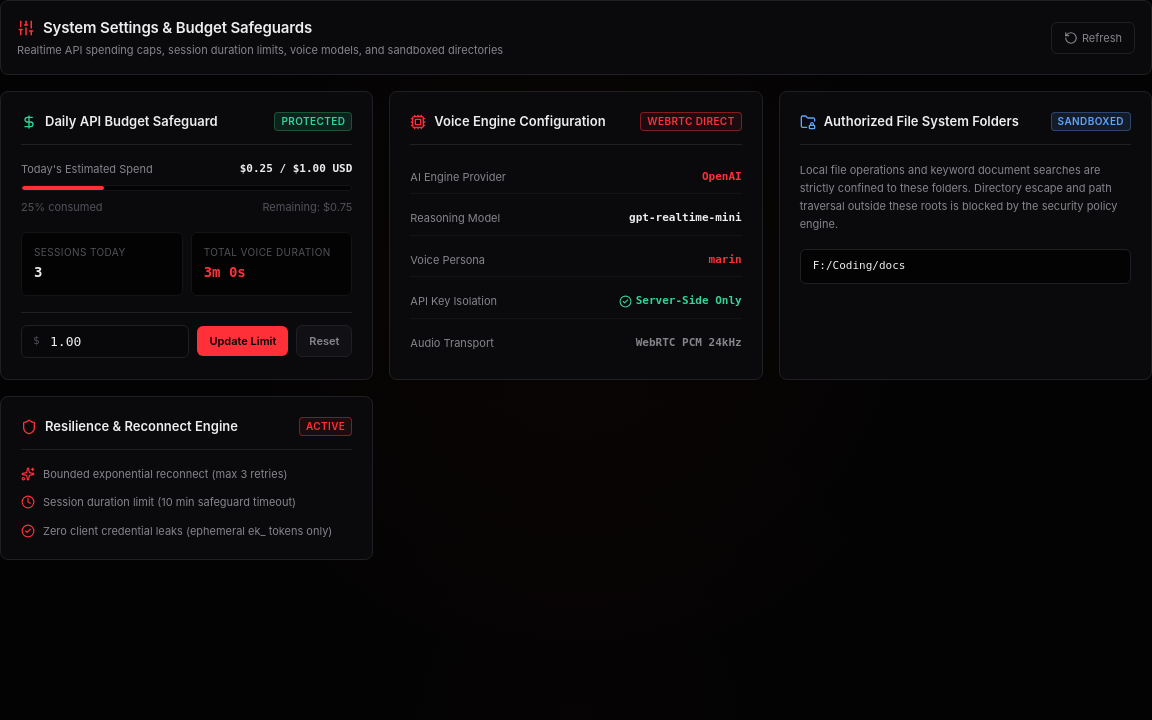
Test case: SettingsPanel Component › resets the daily budget counter when reset is clicked
Check: the text "$0.25 / $1.00 USD" is shown, box left=240, top=160, right=352, bottom=177
Click the button "Reset". click: (324, 341)
box: left=296, top=325, right=352, bottom=357
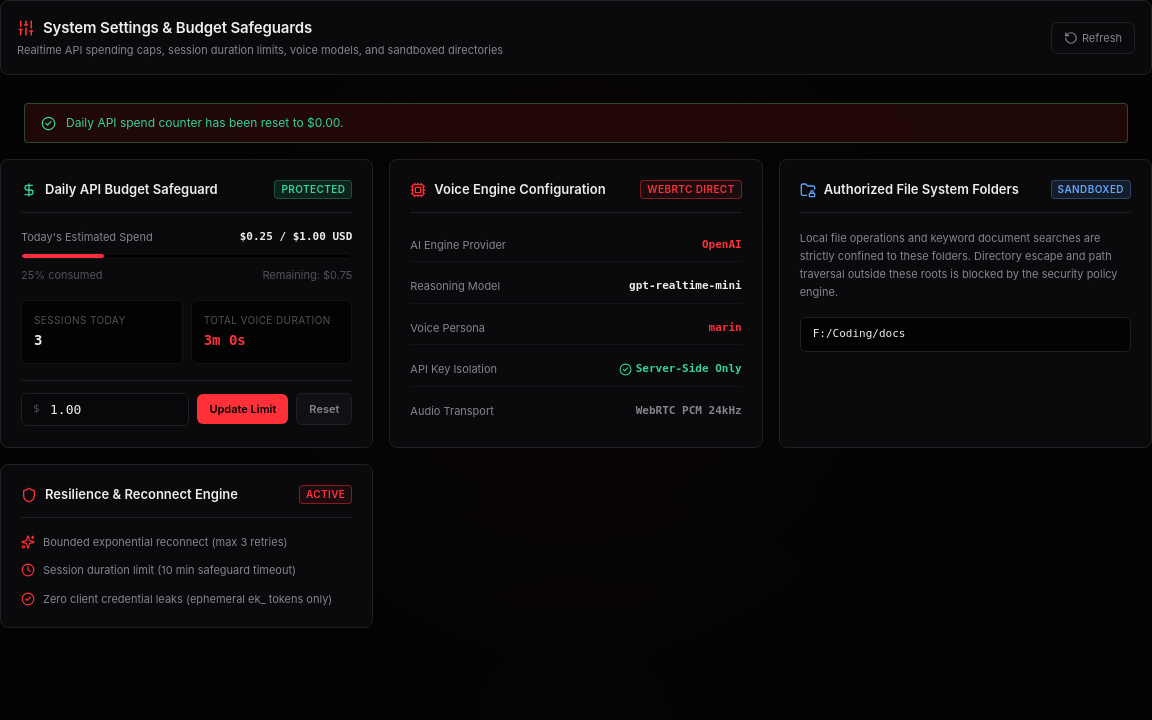
Check: the text "Daily API spend counter has been reset to $0.00." is shown, box left=66, top=114, right=343, bottom=132
